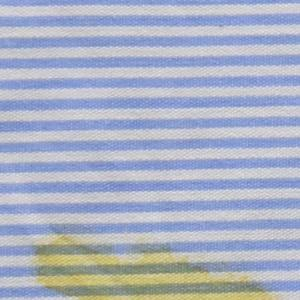Oil Stain: (29, 233, 277, 300)
